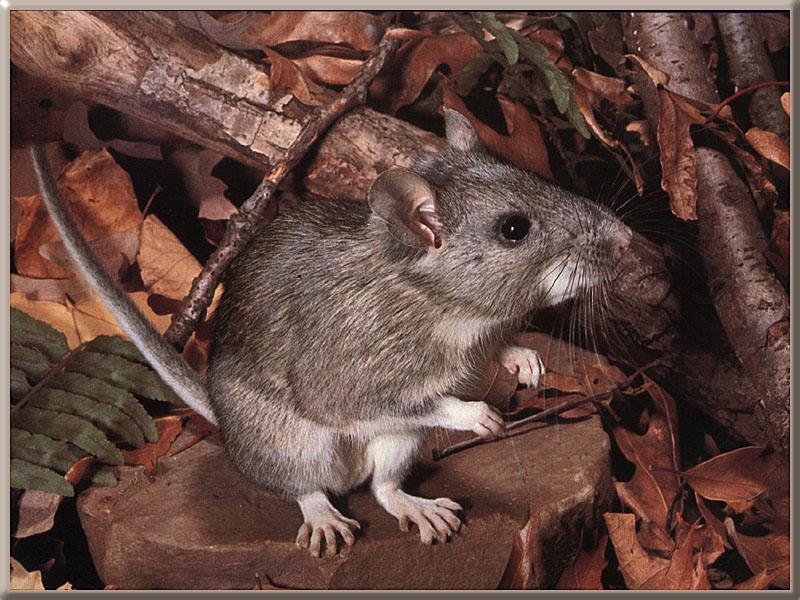rat: (30, 106, 632, 558)
